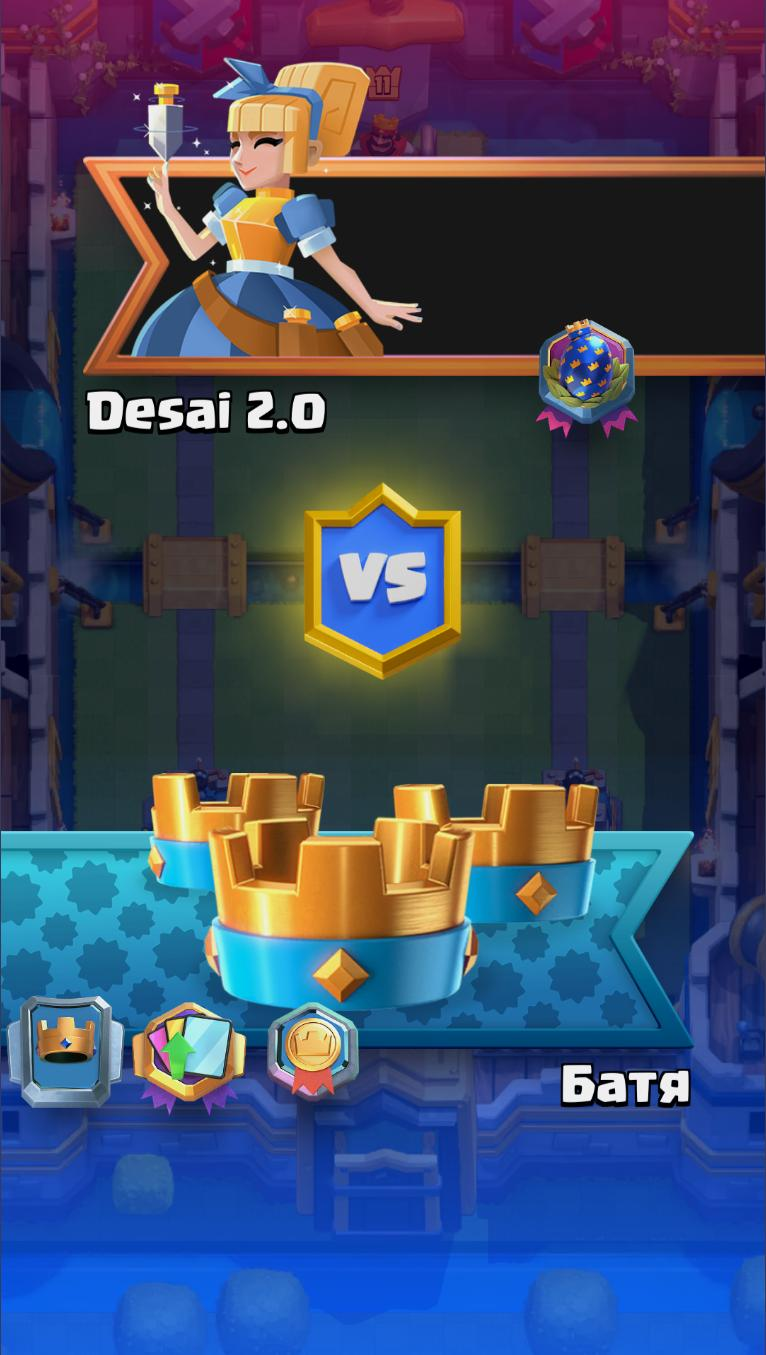GameStart: (0, 769, 696, 1111)
